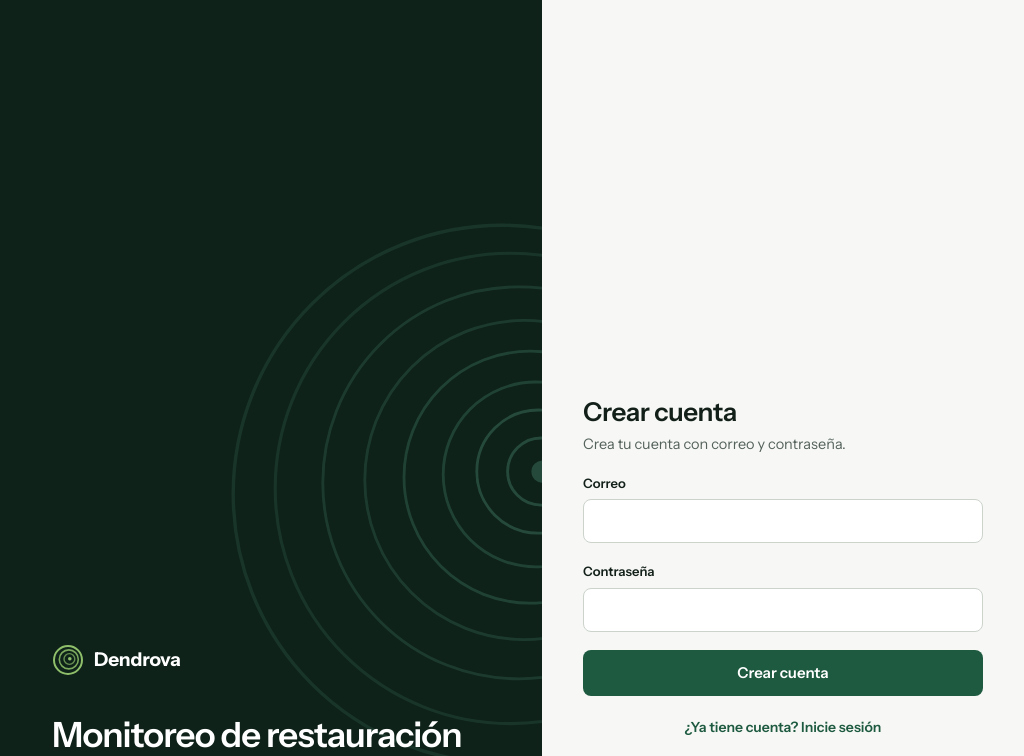
E1 en la interfaz › registrarse con confirmación pendiente lo explica
The width and height of the screenshot is (1024, 756).
In the field labelled "Correo": (783, 521) [583,499,983,543], type "nuevo@example.com"
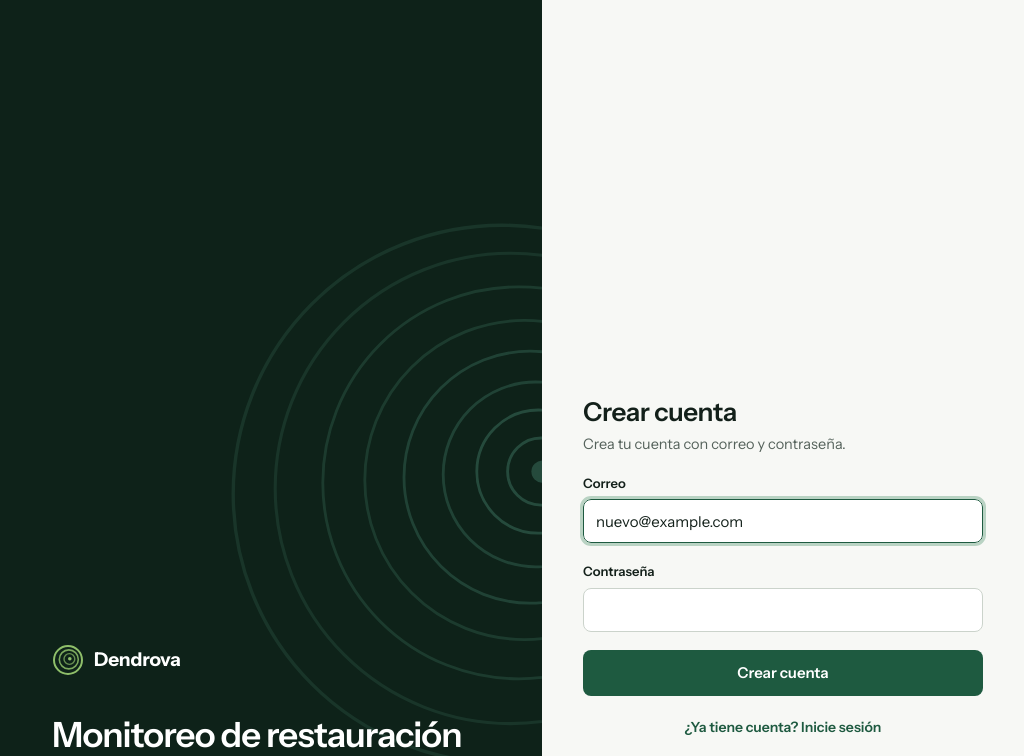
In the password field labelled "Contraseña": (783, 610) [583,588,983,632], type "secreto123"
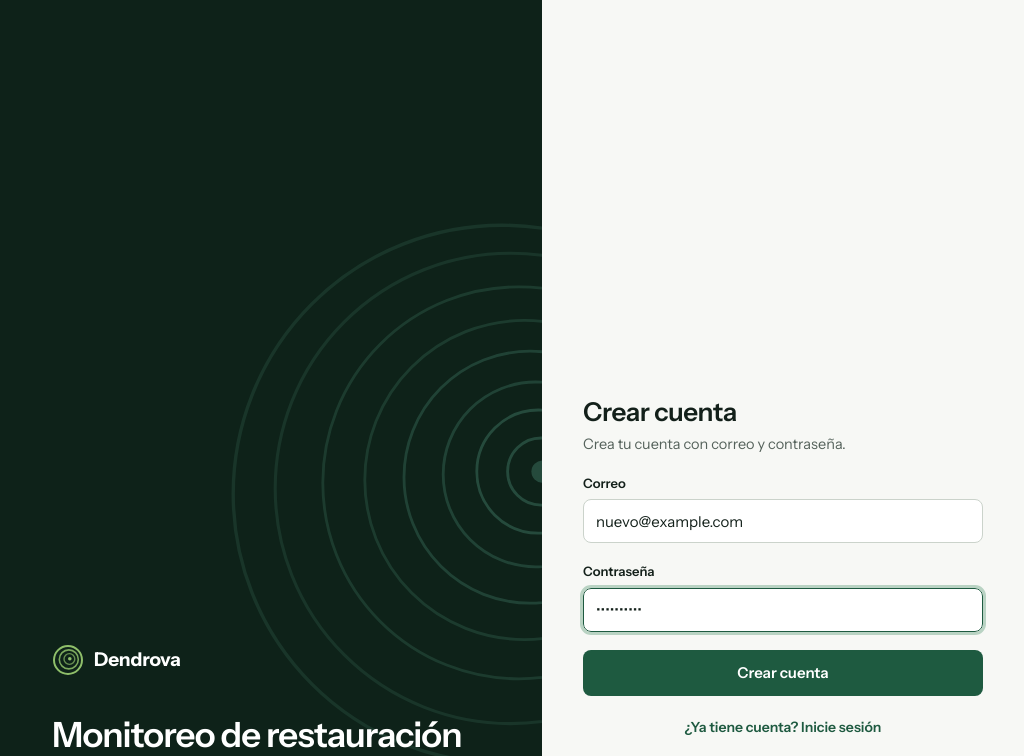
Click the button "Crear cuenta": click(783, 672) [583,650,983,696]
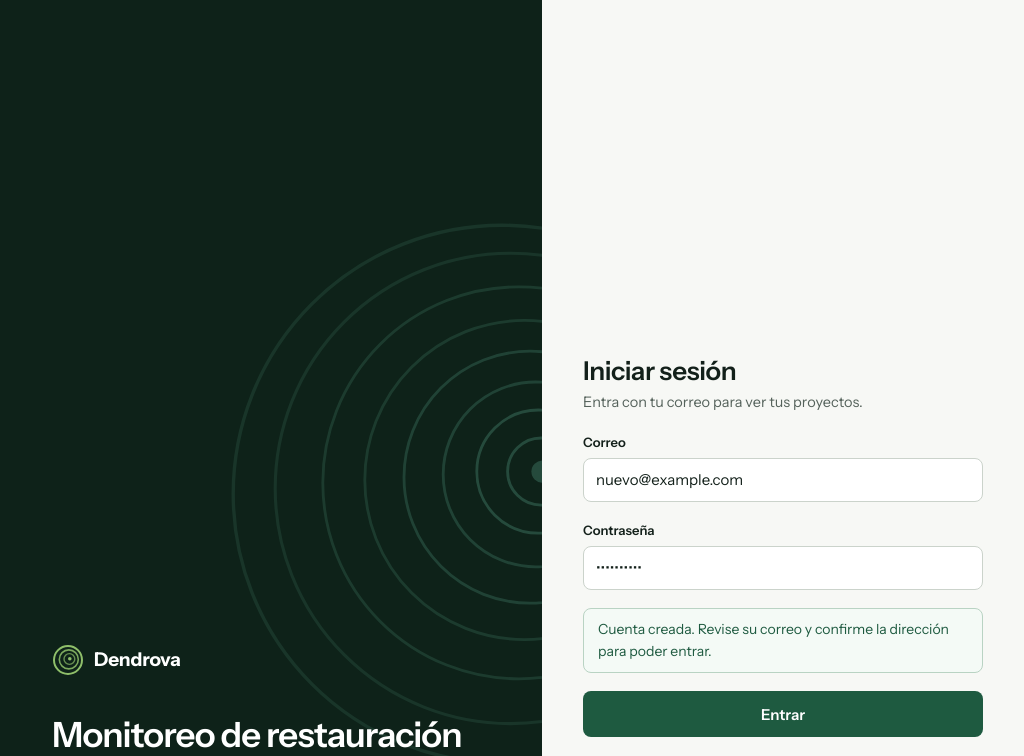
Expected: the text "confirme la dirección" is shown, [598,620,949,660]
